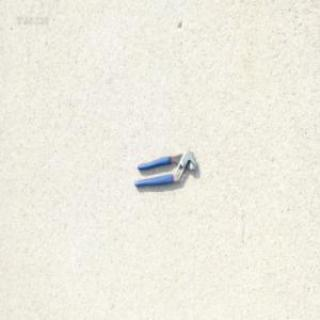Pliertrack_idkeyframe: (131, 145, 196, 186)
